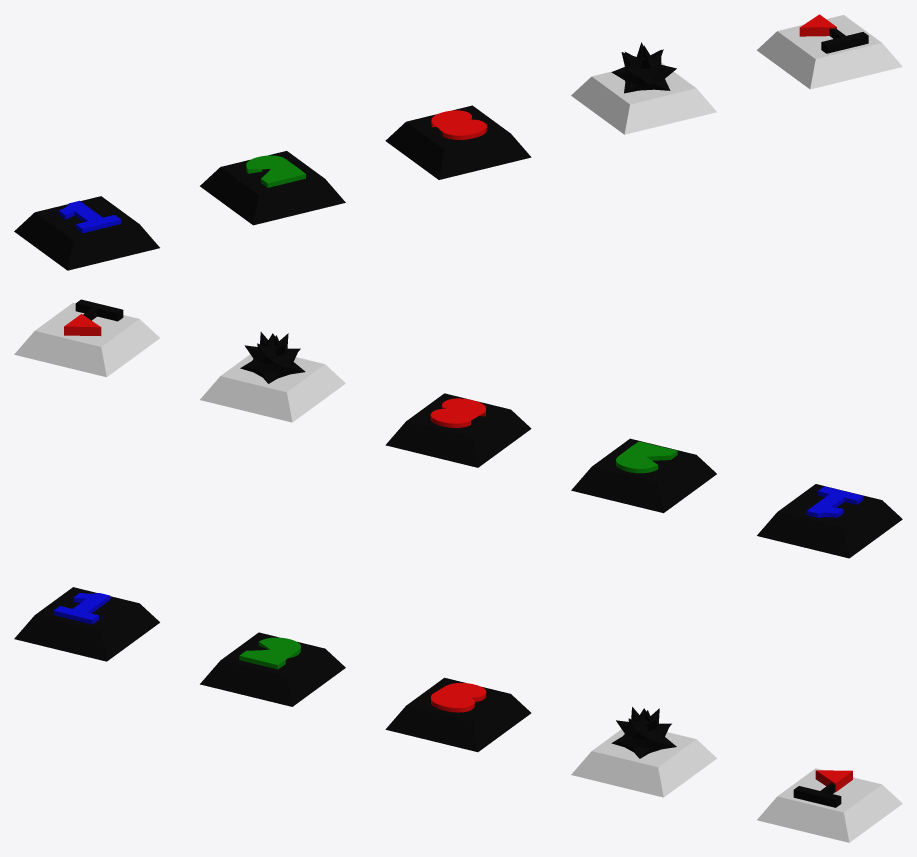
File: Models2.fbx
The picture shows the model from 3 angles, top to bottom: view 1: azimuth 30°, elevation 25°; view 2: azimuth 150°, elevation 25°; view 3: azimuth 330°, elevation 25°; orthographic projection.
Parts seen in each view (by area): view 1: pSphere2, pCube8, typeMesh4, pCube9, pCube10; view 2: pSphere2, pCube8, typeMesh4, pCube10, pCube9; view 3: pSphere2, pCube8, typeMesh4, pCube9, pCube10.
Part boxes in pixels (left/top/right/bottom): pSphere2: left=571, top=42, right=716, bottom=134; pCube8: left=757, top=14, right=902, bottom=89; typeMesh4: left=200, top=151, right=345, bottom=225; pCube9: left=14, top=196, right=159, bottom=270; pCube10: left=385, top=105, right=531, bottom=179; pSphere2: left=200, top=332, right=345, bottom=422; pCube8: left=14, top=299, right=159, bottom=377; typeMesh4: left=571, top=438, right=716, bottom=513; pCube10: left=385, top=393, right=531, bottom=467; pCube9: left=757, top=484, right=902, bottom=558; pSphere2: left=571, top=707, right=716, bottom=797; pCube8: left=757, top=768, right=902, bottom=842; typeMesh4: left=200, top=632, right=345, bottom=706; pCube9: left=14, top=587, right=159, bottom=661; pCube10: left=385, top=677, right=531, bottom=752.
Size of the model in its own units: 9 by 0.6419 by 1.
